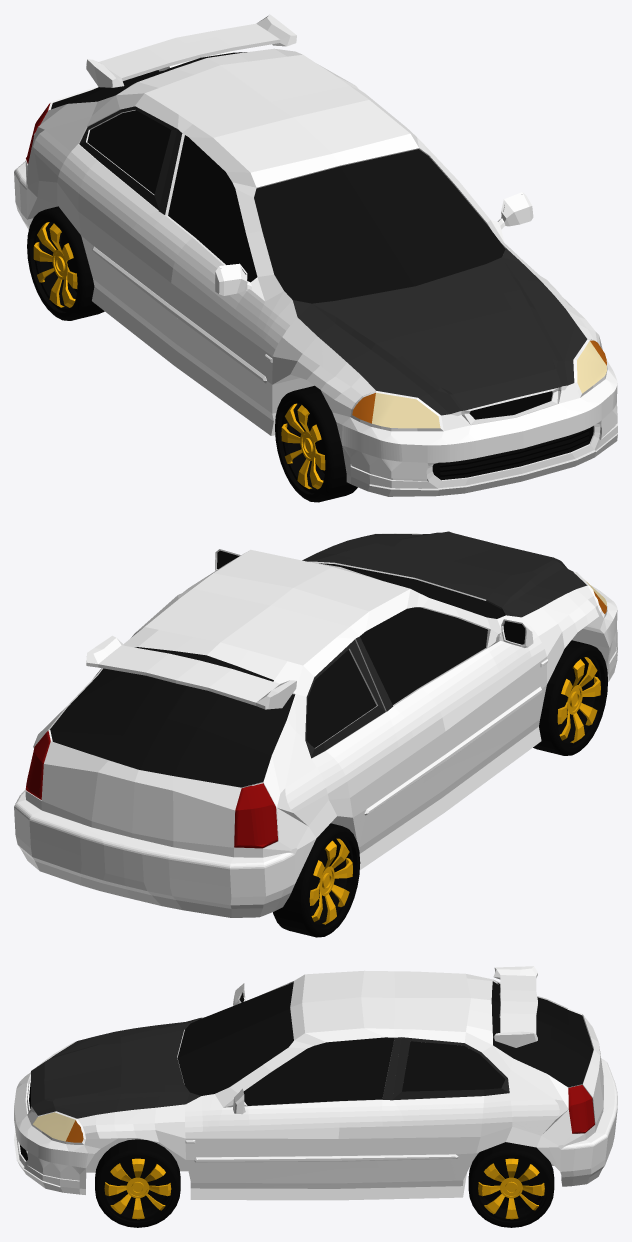
File: Honda Civic.fbx
3 views of the same model, one above another, from view 1: azimuth 30°, elevation 25°; view 2: azimuth 150°, elevation 25°; view 3: azimuth 270°, elevation 25° (orthographic). The views are drawn at different scales.
Visible parts, largest first — view 1: Куб, Куб.009, Куб.006; view 2: Куб, Куб.006, Куб.009; view 3: Куб, Куб.003, Куб.002, Куб.001.
Part boxes in pixels (x1,y1,x2,y2): Куб: (14, 14, 617, 496); Куб.009: (275, 385, 357, 502); Куб.006: (27, 206, 104, 320); Куб: (14, 531, 617, 917); Куб.006: (273, 823, 360, 937); Куб.009: (533, 640, 607, 755); Куб: (14, 966, 617, 1200); Куб.003: (95, 1139, 180, 1227); Куб.002: (468, 1142, 554, 1227); Куб.001: (86, 1138, 553, 1172).
Size of the model in its own units: 163 by 119 by 361.
